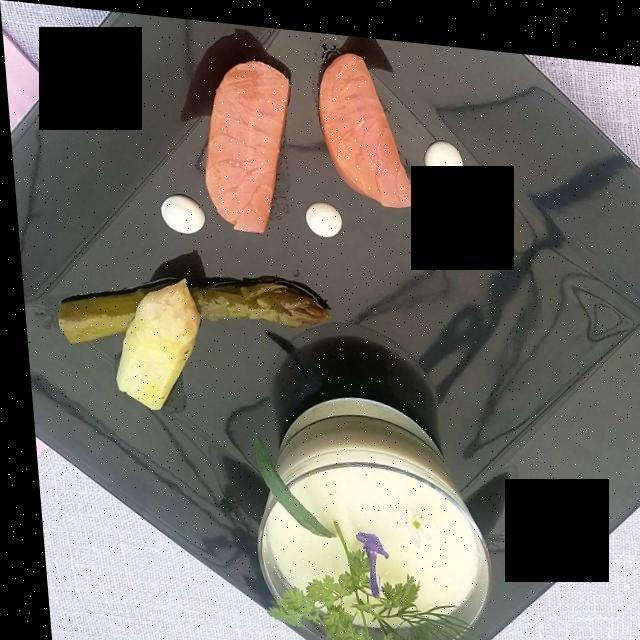salmon: (212, 39, 411, 228)
